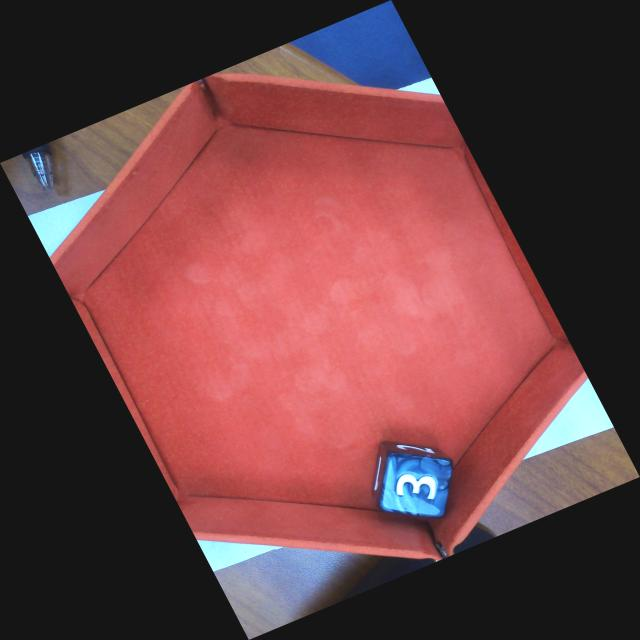dice: (377, 452, 455, 520)
